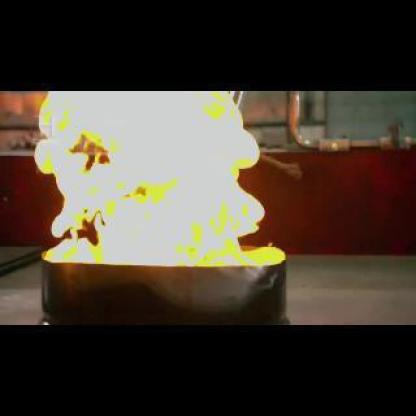fire: (37, 95, 280, 263)
